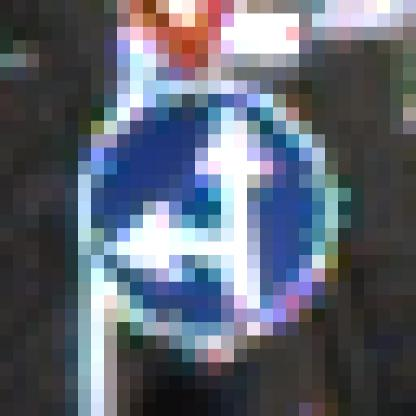Straight or Left: (66, 68, 352, 350)
